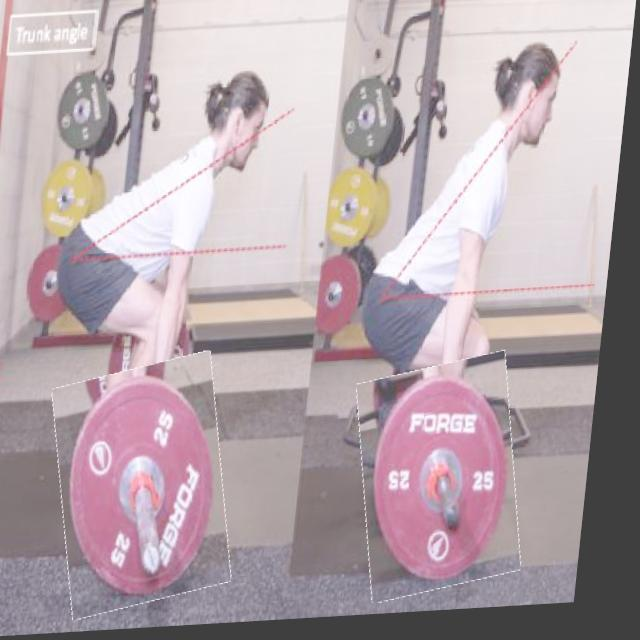barbell: (54, 360, 253, 618), (358, 362, 543, 605)
